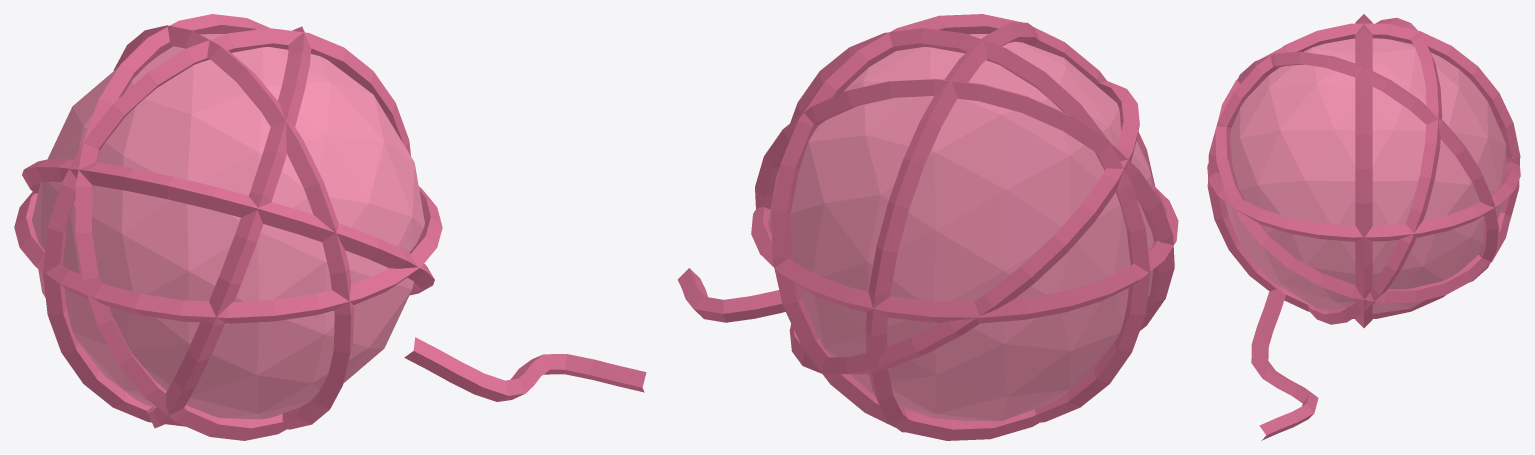
File: gomitolo.glb
3 renders of one model, left to right at view 1: azimuth 30°, elevation 25°; view 2: azimuth 150°, elevation 25°; view 3: azimuth 270°, elevation 25°, orthographic. The views are drawn at different scales.
Size of the model in its own units: 1.32 by 0.9199 by 0.9074.
